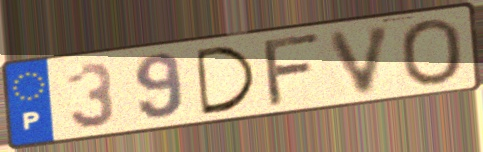3: (63, 60, 117, 132)
9: (131, 50, 187, 124)
D: (191, 43, 261, 118)
F: (262, 30, 327, 110)
O: (397, 16, 466, 88)
V: (325, 21, 397, 97)
